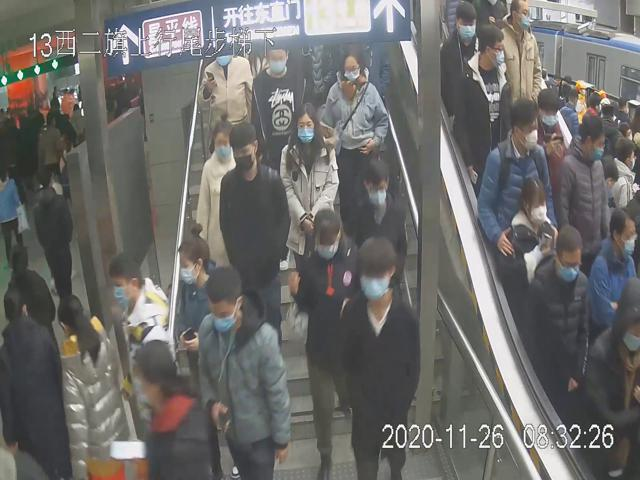person: (197, 265, 292, 480), (335, 236, 418, 480), (295, 208, 357, 480), (217, 120, 290, 341), (476, 96, 557, 265), (520, 226, 593, 404), (322, 44, 390, 202), (277, 103, 340, 272), (453, 21, 514, 188), (195, 116, 255, 277), (344, 155, 410, 289), (175, 223, 230, 380)
